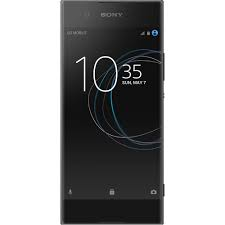sony: (57, 1, 165, 224)
